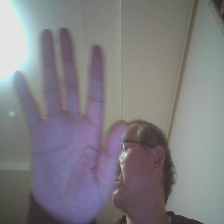hand: (11, 26, 122, 222)
